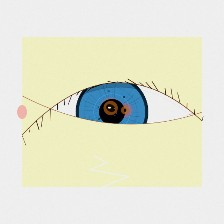foreign_body_visible: (87, 89, 134, 127)
